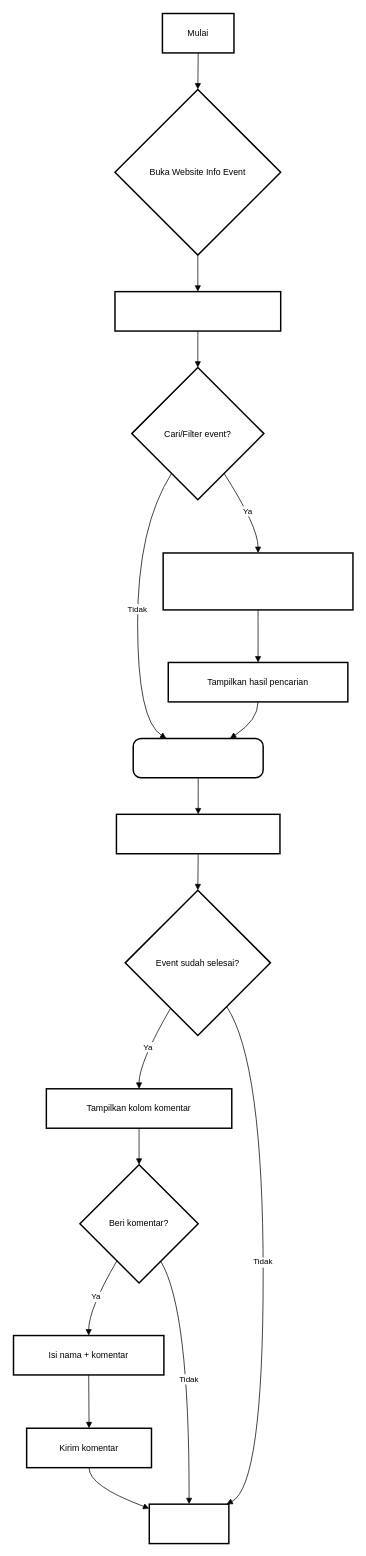
This 366x1556 diagram has some shape labels left out. Here are the shapes that lost their labels. From the top down, the box of each, then its label:
(114, 291, 281, 331): Tampilkan Daftar Event
(162, 552, 353, 610): Masukkan kata kunci/kategori
(132, 737, 264, 778): Klik salah satu event
(115, 813, 280, 854): Tampilkan detail event
(148, 1503, 229, 1544): Selesai
